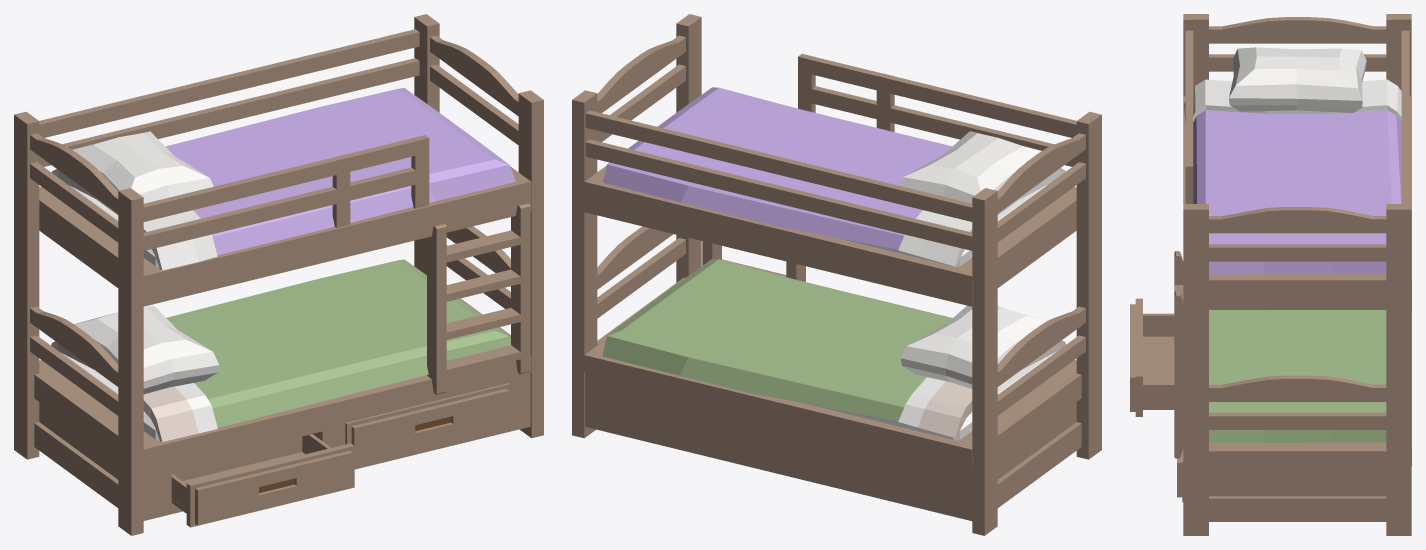
Rendered from Bed_3.fbx.
3 views of the same model, side by side, from view 1: azimuth 30°, elevation 25°; view 2: azimuth 150°, elevation 25°; view 3: azimuth 270°, elevation 25° (orthographic). The views are drawn at different scales.
Visible parts, largest first — view 1: Bed_3; view 2: Bed_3; view 3: Bed_3.
Part boxes in pixels (x1,y1,x2,y2): Bed_3: (14,14,543,535); Bed_3: (572,14,1101,535); Bed_3: (1130,14,1411,535).
Bounding box in the file's own units: 279 × 170 × 217.
